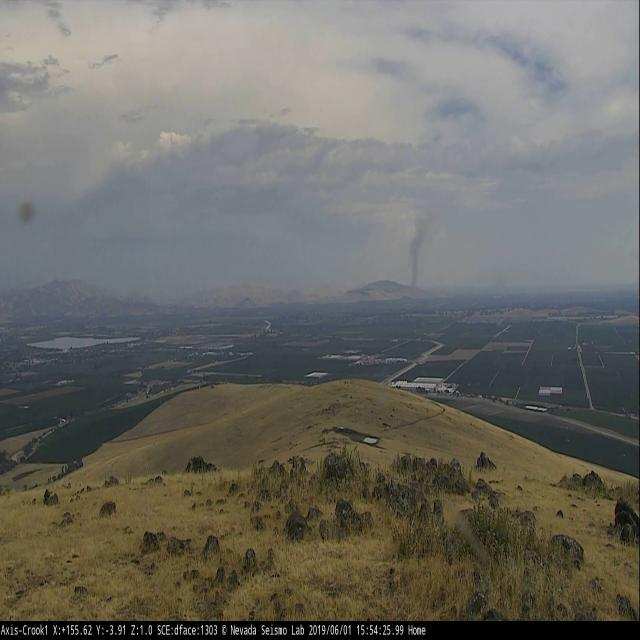smoke: (406, 211, 435, 288)
